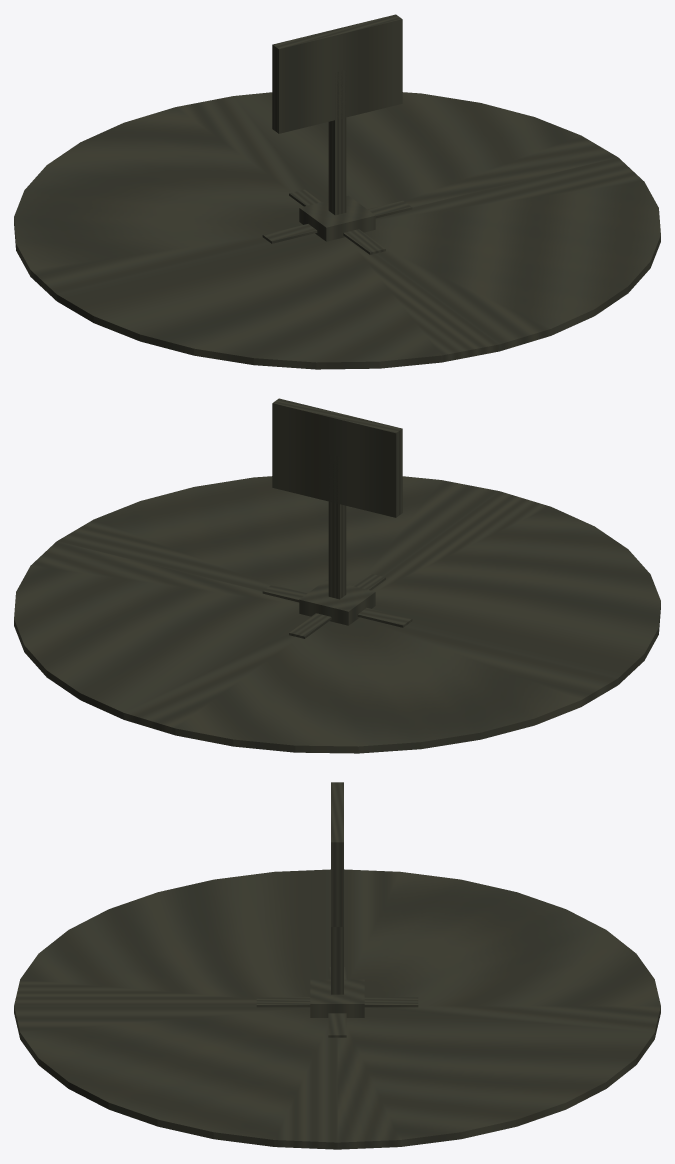
The model's file is env_extraction_pad_marker_a.glb.
3 renders of one model, top to bottom at view 1: azimuth 30°, elevation 25°; view 2: azimuth 150°, elevation 25°; view 3: azimuth 270°, elevation 25°, orthographic.
Parts seen in each view (by area): view 1: env_extraction_pad_marker_a; view 2: env_extraction_pad_marker_a; view 3: env_extraction_pad_marker_a.
Part boxes in pixels (x1,y1,x2,y2): env_extraction_pad_marker_a: (14,14,660,369); env_extraction_pad_marker_a: (14,398,660,753); env_extraction_pad_marker_a: (14,782,660,1149).
Bounding box in the file's own units: 5 × 1.77 × 5.
1 material, 1 textured.
